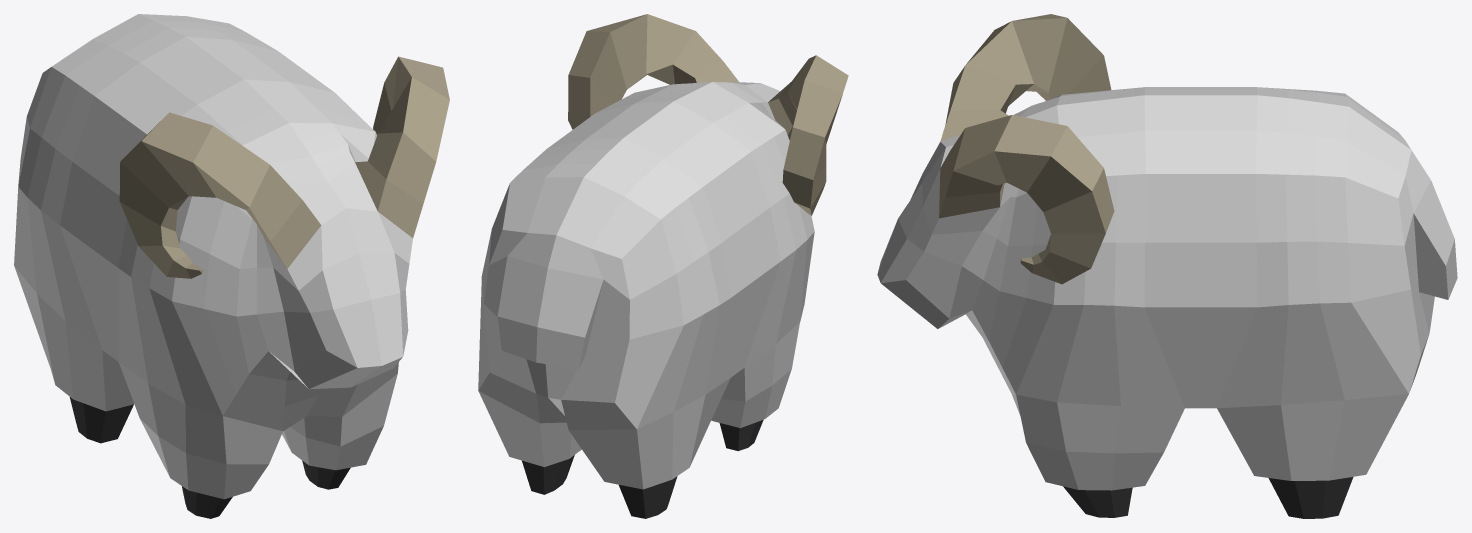
File: sheep.glb
3 views of the same model, side by side, from view 1: azimuth 30°, elevation 25°; view 2: azimuth 150°, elevation 25°; view 3: azimuth 270°, elevation 25° (orthographic). The views are drawn at different scales.
Parts seen in each view (by area): view 1: Cube; view 2: Cube; view 3: Cube.
Boxes of the visible parts, x1,y1,x2,y2 form: Cube: (14, 14, 449, 518); Cube: (478, 14, 848, 518); Cube: (877, 14, 1457, 518).
Size of the model in its own units: 2.59 by 3.52 by 4.45.
